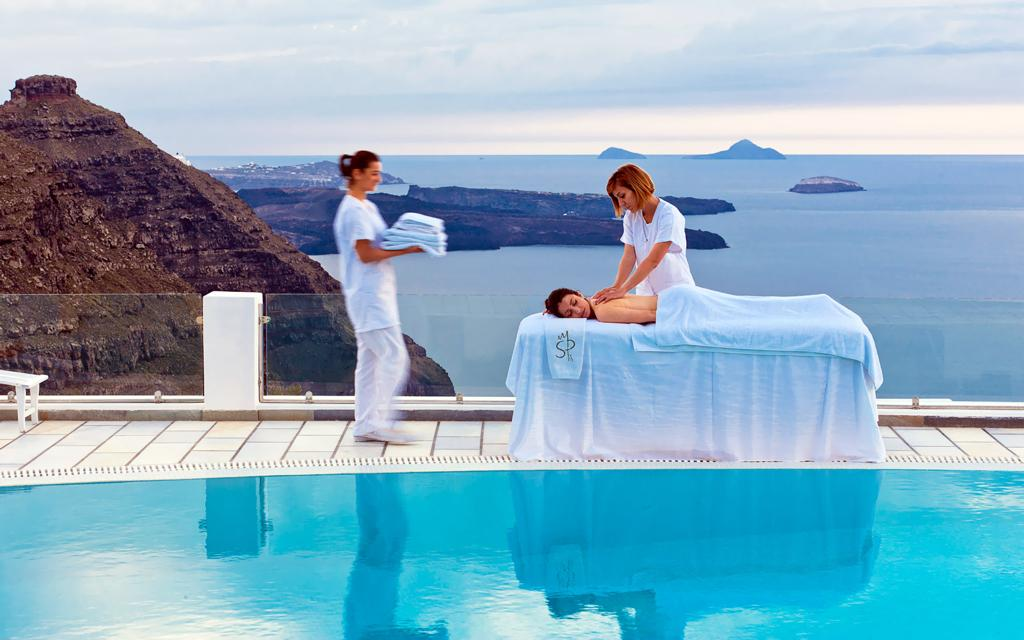face: (561, 294, 590, 318), (611, 185, 637, 210), (362, 160, 380, 189)
